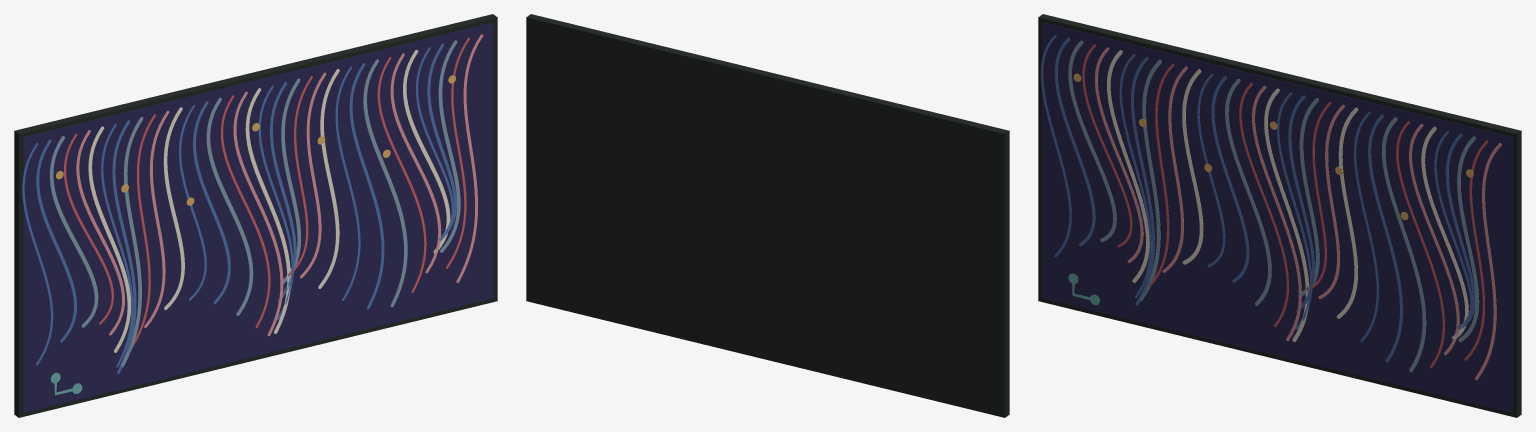
Rendered from gh_mural_currents_v01.glb.
3 renders of one model, left to right at view 1: azimuth 30°, elevation 25°; view 2: azimuth 150°, elevation 25°; view 3: azimuth 330°, elevation 25°, orthographic.
Parts seen in each view (by area): view 1: panel, authored_mural_graphic; view 2: panel; view 3: panel, authored_mural_graphic.
Part boxes in pixels (x1=…): panel: x1=14, y1=14, x2=497, y2=417; authored_mural_graphic: x1=22, y1=34, x2=483, y2=395; panel: x1=526, y1=14, x2=1009, y2=417; panel: x1=1038, y1=14, x2=1521, y2=417; authored_mural_graphic: x1=1040, y1=35, x2=1501, y2=380.
Size of the model in its own units: 6 by 3.4 by 0.12.
Materials: 1 (1 with a texture image).
